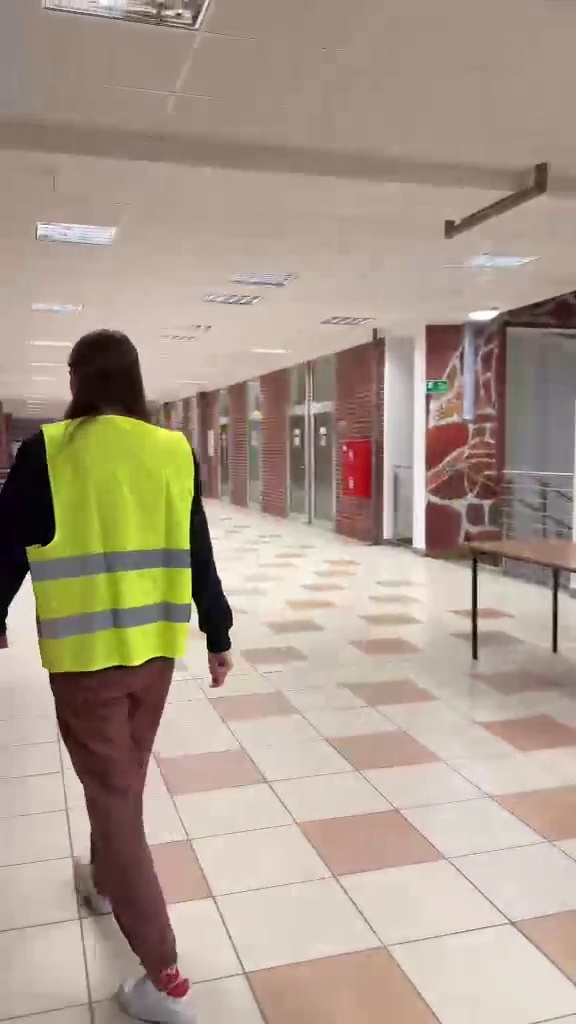vest: (8, 324, 239, 1007)
